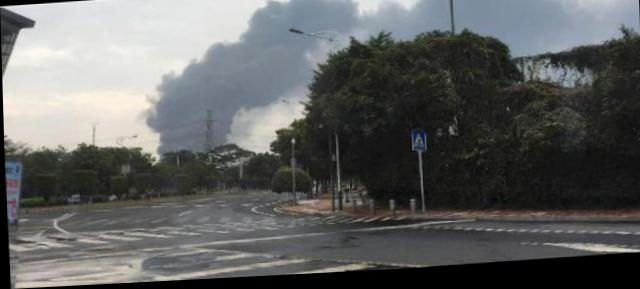smoke: (467, 0, 636, 35), (154, 67, 291, 109), (306, 0, 444, 34), (248, 9, 302, 68), (145, 108, 200, 144), (187, 43, 241, 71)
